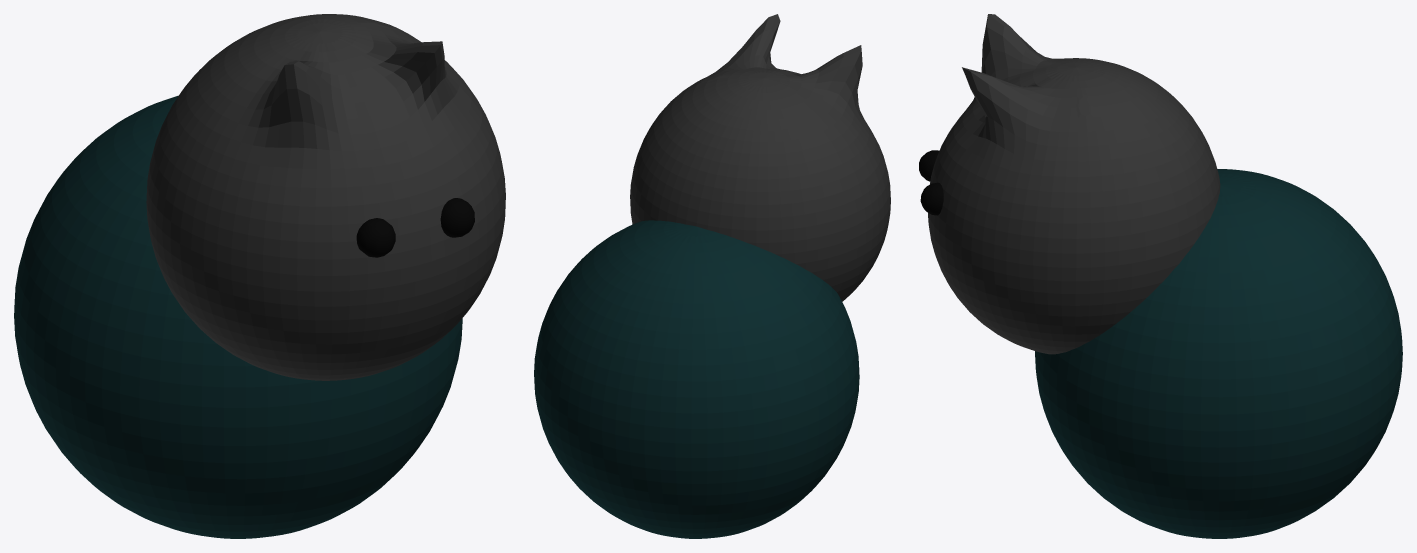
The model's file is cat_.obj.
3 renders of one model, left to right at view 1: azimuth 30°, elevation 25°; view 2: azimuth 150°, elevation 25°; view 3: azimuth 270°, elevation 25°, orthographic. The views are drawn at different scales.
Visible parts, largest first — view 1: Sphere.001, Sphere, Mball; view 2: Sphere, Sphere.001; view 3: Sphere, Sphere.001, Mball.
Part boxes in pixels (bbox=[...]): Sphere.001: bbox=[146, 14, 505, 380]; Sphere: bbox=[14, 95, 462, 538]; Mball: bbox=[356, 198, 474, 257]; Sphere: bbox=[534, 220, 859, 538]; Sphere.001: bbox=[630, 14, 890, 301]; Sphere: bbox=[1035, 169, 1402, 538]; Sphere.001: bbox=[928, 14, 1220, 354]; Mball: bbox=[919, 150, 943, 215].
Size of the model in its own units: 1.44 by 2.05 by 1.89.
